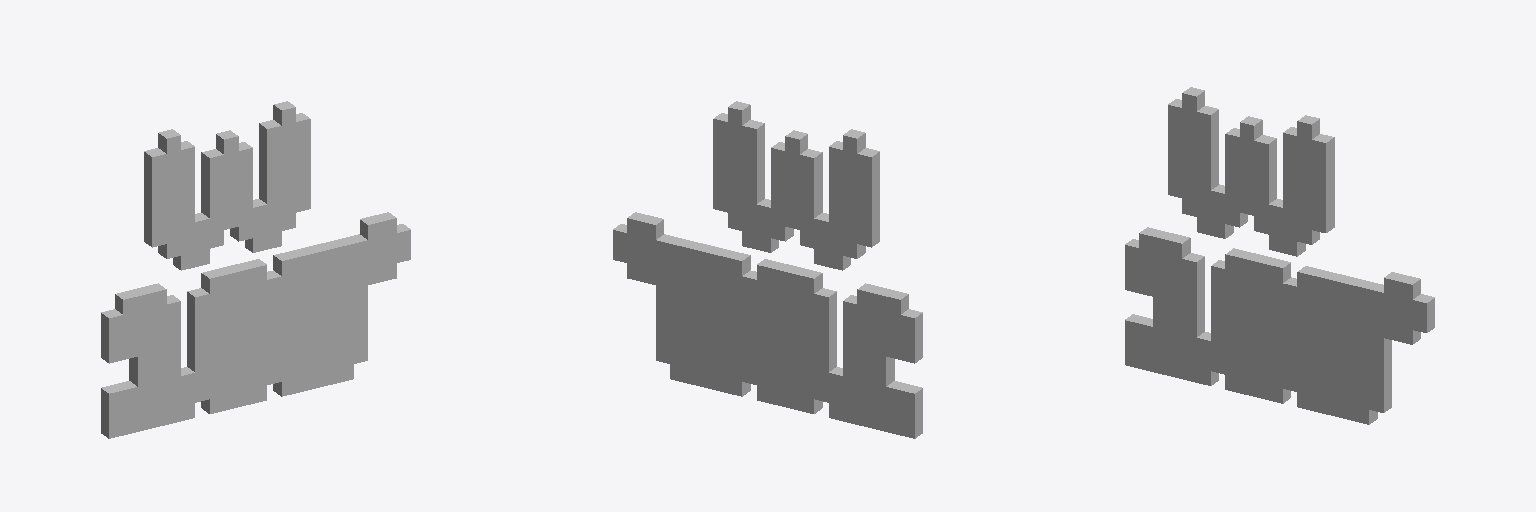
Rendered from 180 sign.obj.
3 renders of one model, left to right at view 1: azimuth 30°, elevation 25°; view 2: azimuth 150°, elevation 25°; view 3: azimuth 330°, elevation 25°, orthographic.
Parts seen in each view (by area): view 1: object 1; view 2: object 1; view 3: object 1.
Boxes of the visible parts, x1,y1,x2,y2 form: object 1: [101, 101, 410, 438]; object 1: [613, 101, 922, 438]; object 1: [1125, 87, 1434, 424].
Bounding box in the file's own units: 2.1 × 1.9 × 0.1.